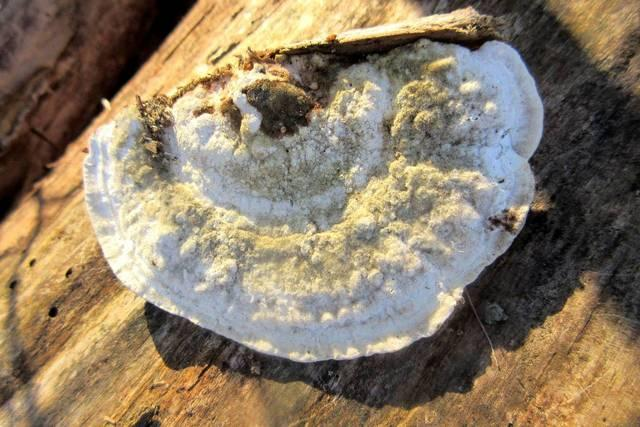poisonous_mushroom: (81, 18, 545, 365)
